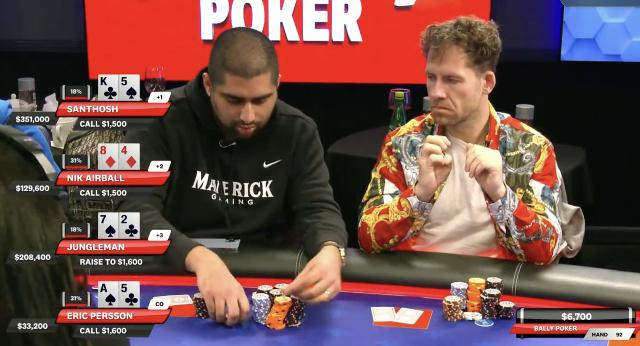2C: (120, 213, 138, 238)
4D: (120, 144, 138, 170)
5C: (120, 282, 138, 308)
5S: (121, 76, 139, 100)
7S: (99, 213, 117, 238)
8D: (100, 144, 116, 170)
AS: (99, 282, 117, 308)
KC: (99, 76, 117, 100)
